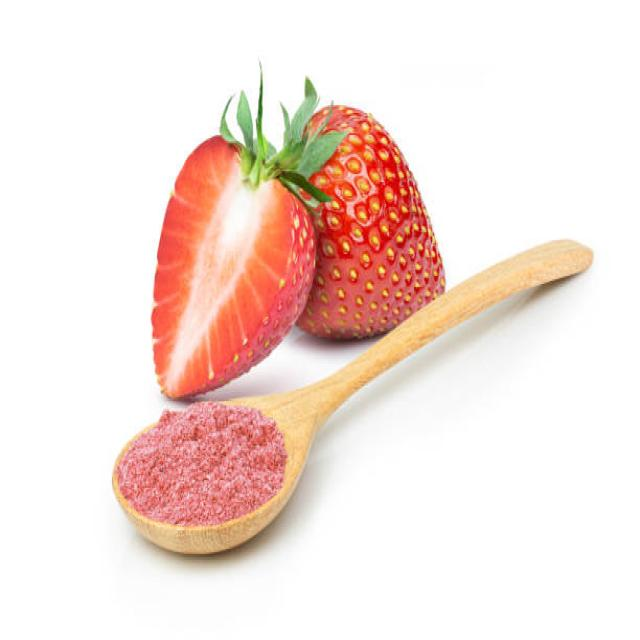Healthy Fruit: (291, 105, 446, 343)
